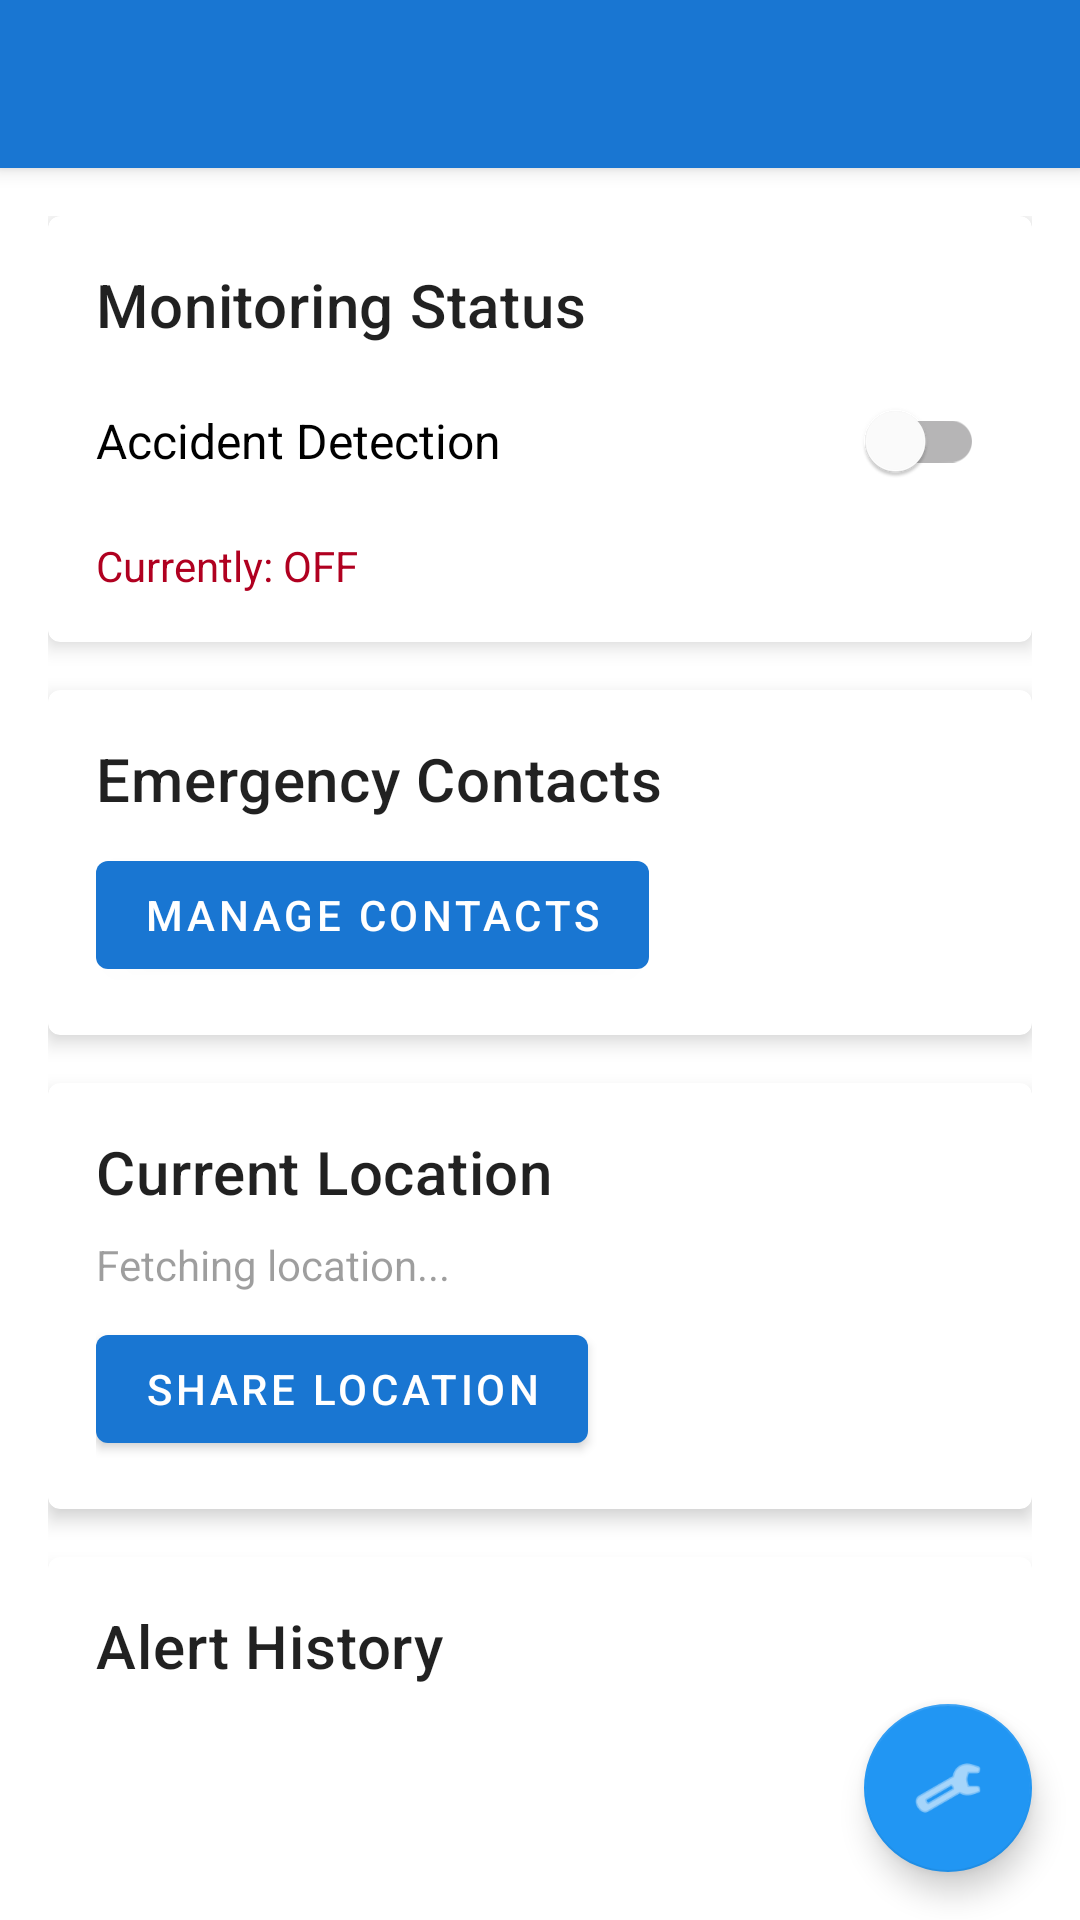

Icons on this 1080px x 1920px Android screen, each with the point to tap as (x=x, y=y):
Settings: (x=948, y=1788)
